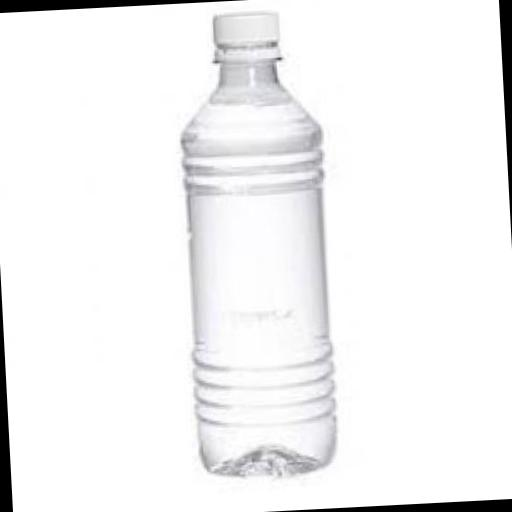plastic: (174, 8, 337, 478), (208, 10, 276, 64)
